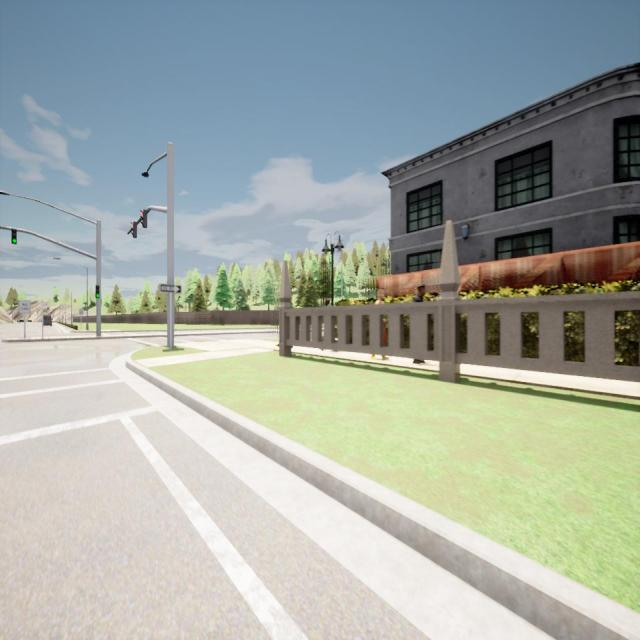Pedestrian: (412, 284, 429, 364), (371, 288, 388, 360), (322, 298, 332, 308)
Traffic_Signs: (160, 285, 182, 293), (20, 302, 30, 313), (79, 308, 83, 314)
Vehicle: (44, 314, 52, 326)
traffic_light: (140, 208, 147, 228), (130, 221, 137, 238), (11, 229, 17, 244), (96, 285, 99, 298)
